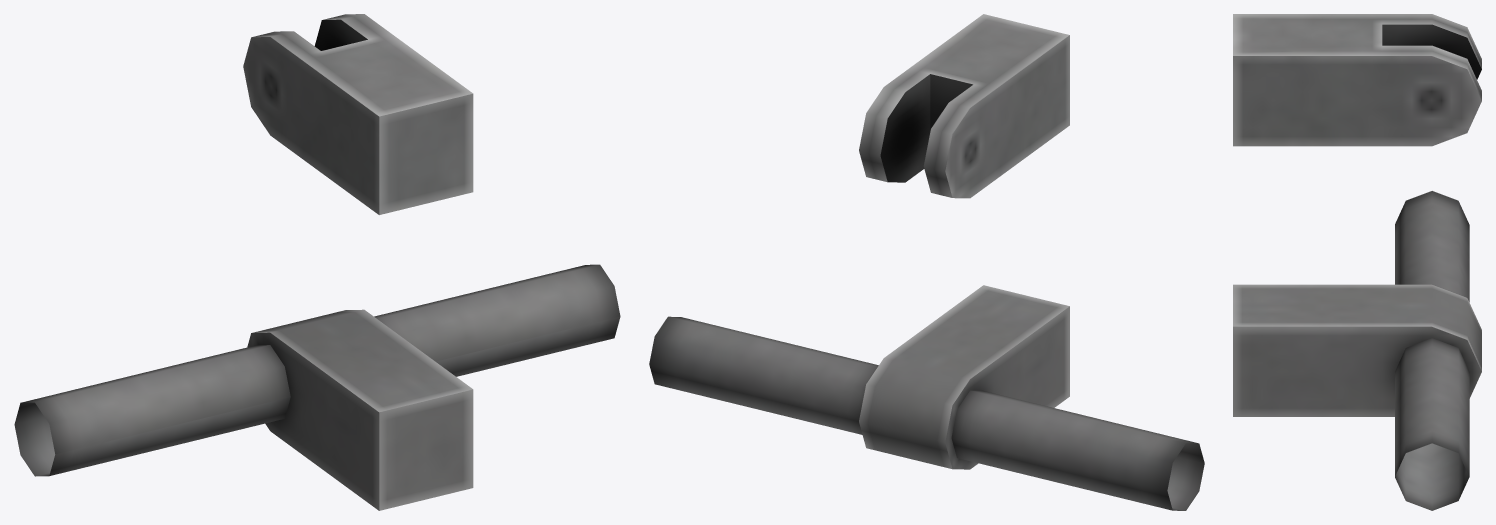
The model's file is lbase.obj.
3 views of the same model, side by side, from view 1: azimuth 30°, elevation 25°; view 2: azimuth 150°, elevation 25°; view 3: azimuth 270°, elevation 25° (orthographic). The views are drawn at different scales.
Visible parts, largest first — view 1: 1; view 2: 1; view 3: 1.
Boxes of the visible parts, <box> form: 1: <box>14,14,620,510</box>; 1: <box>649,14,1204,510</box>; 1: <box>1233,14,1481,510</box>.
Bounding box in the file's own units: 0.3 × 0.2 × 0.125.
1 material, 1 textured.
